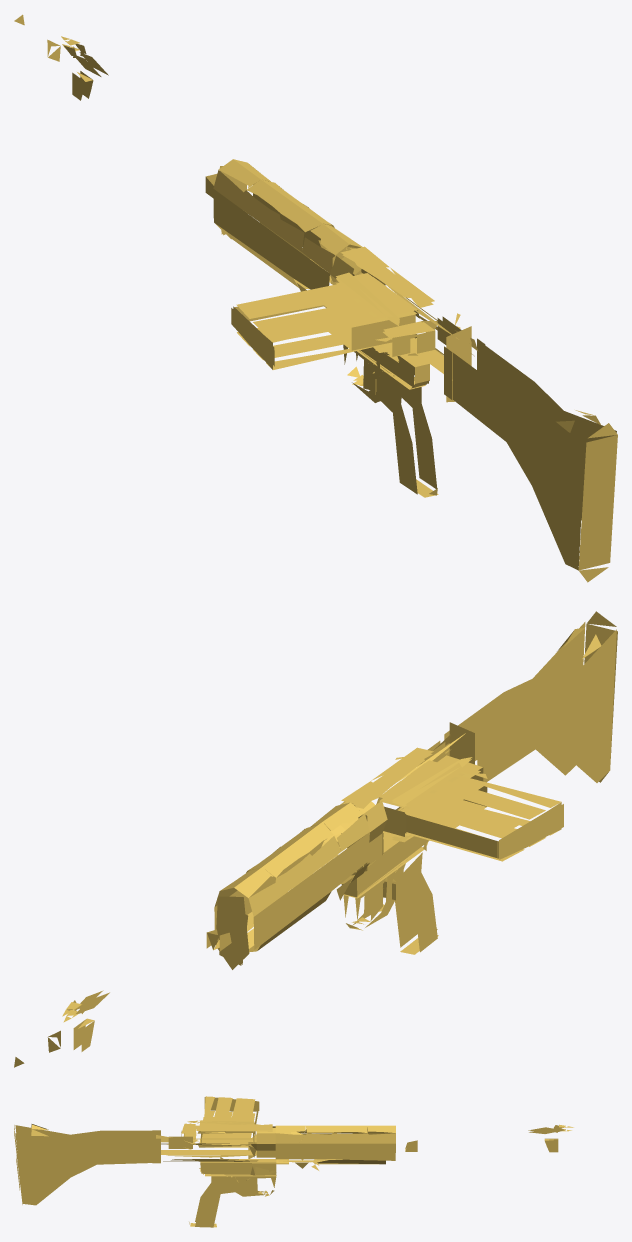
Rendered from charm_mst_fusil_1.glb.
The picture shows the model from 3 angles, top to bottom: view 1: azimuth 30°, elevation 25°; view 2: azimuth 150°, elevation 25°; view 3: azimuth 270°, elevation 25°; orthographic projection. The views are drawn at different scales.
Visible parts, largest first — view 1: p0_paint; view 2: p0_paint; view 3: p0_paint.
Part boxes in pixels (left/top/right/bottom): p0_paint: left=14, top=14, right=617, bottom=582; p0_paint: left=14, top=611, right=617, bottom=1067; p0_paint: left=14, top=1096, right=573, bottom=1227.
Bounding box in the file's own units: 0.1874 × 0.1813 × 0.9691.
